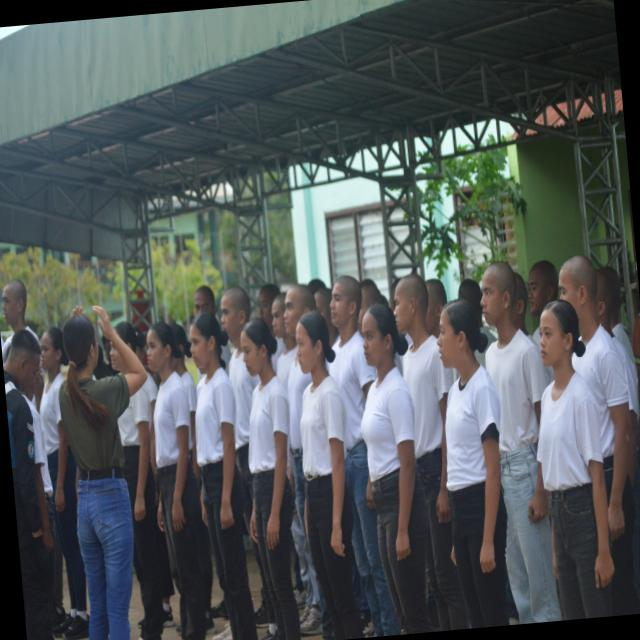person: (59, 306, 147, 639), (559, 256, 639, 614), (481, 262, 560, 623), (395, 274, 468, 630), (330, 276, 400, 636), (538, 300, 613, 618), (362, 304, 432, 633), (439, 300, 508, 627), (190, 313, 257, 639), (296, 312, 362, 639), (241, 319, 301, 639), (147, 321, 207, 639), (3, 330, 54, 639), (40, 328, 89, 638), (596, 271, 639, 598), (118, 376, 170, 639), (221, 287, 259, 529), (171, 323, 200, 484), (285, 356, 311, 525), (292, 512, 321, 631), (458, 279, 495, 366), (528, 261, 559, 319), (314, 288, 339, 346), (193, 285, 218, 317)
